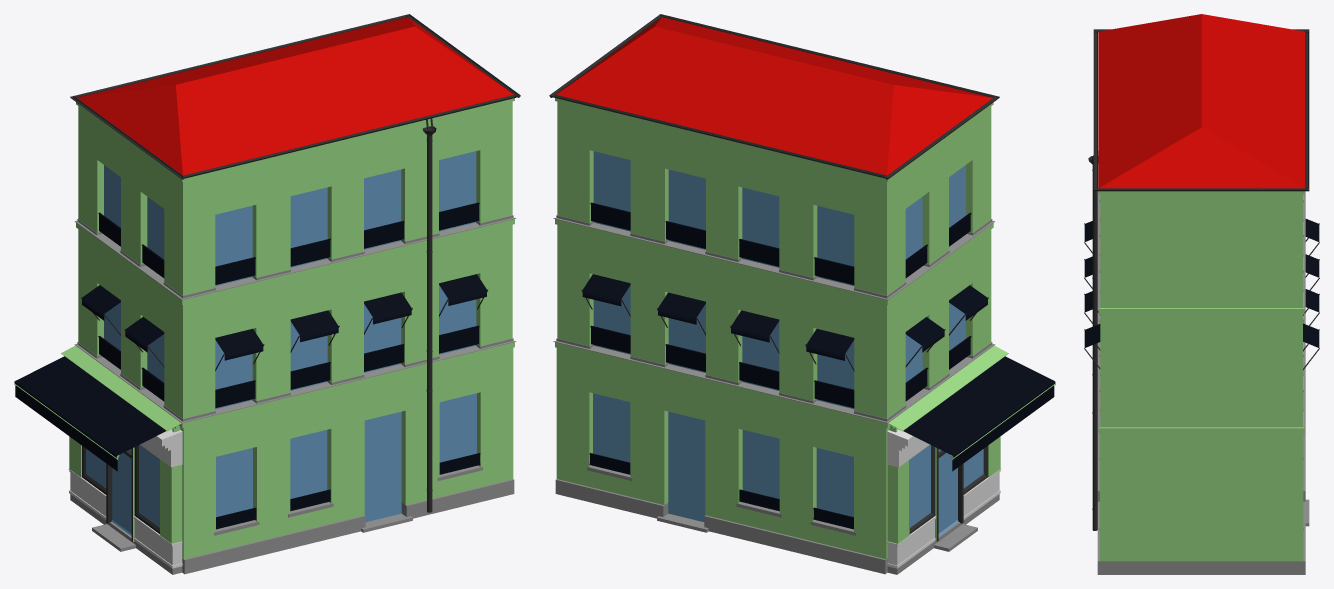
Rendered from Building_E.fbx.
The picture shows the model from 3 angles, left to right: view 1: azimuth 30°, elevation 25°; view 2: azimuth 150°, elevation 25°; view 3: azimuth 270°, elevation 25°; orthographic projection. The views are drawn at different scales.
Visible parts, largest first — view 1: Building_E; view 2: Building_E; view 3: Building_E.
Boxes of the visible parts, x1,y1,x2,y2 form: Building_E: (14,14,520,574); Building_E: (549,14,1055,574); Building_E: (1084,14,1319,574).
Size of the model in its own units: 225 by 236 by 119.
